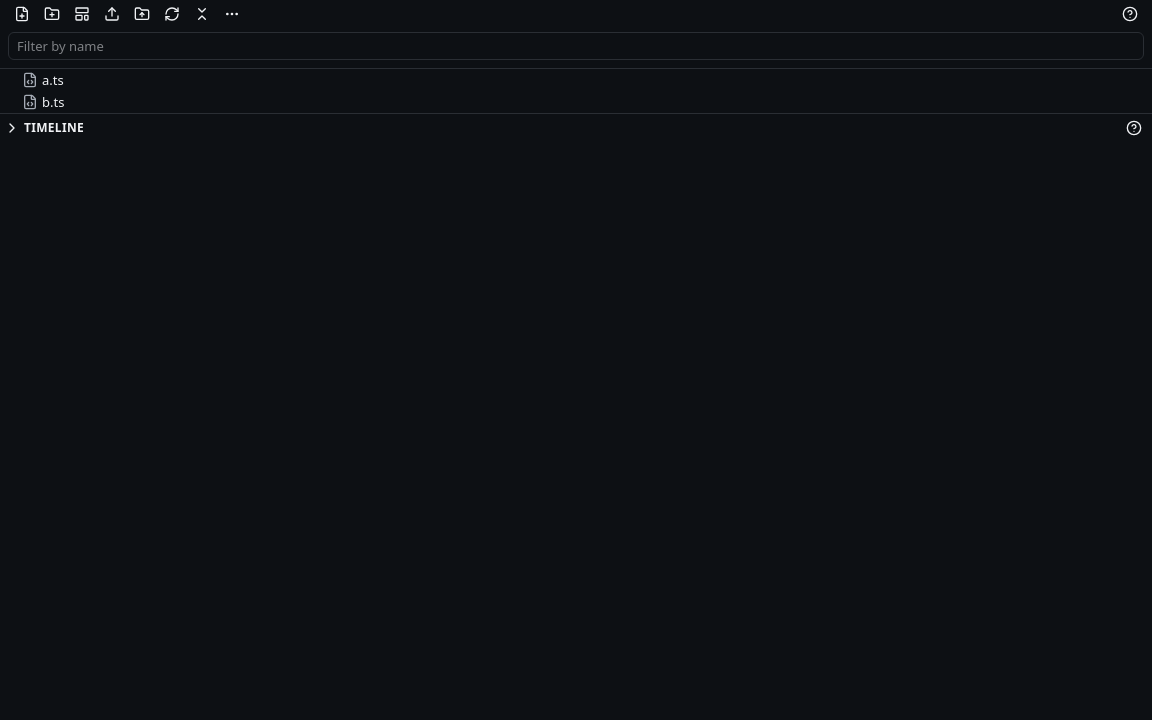
deleting what fits in the local history — plan 07, B-58, S-344 › shows what did not come back, and why, on the outcome screen
Click the list item "a.ts".
click(43, 80)  # box [22,71,64,89]
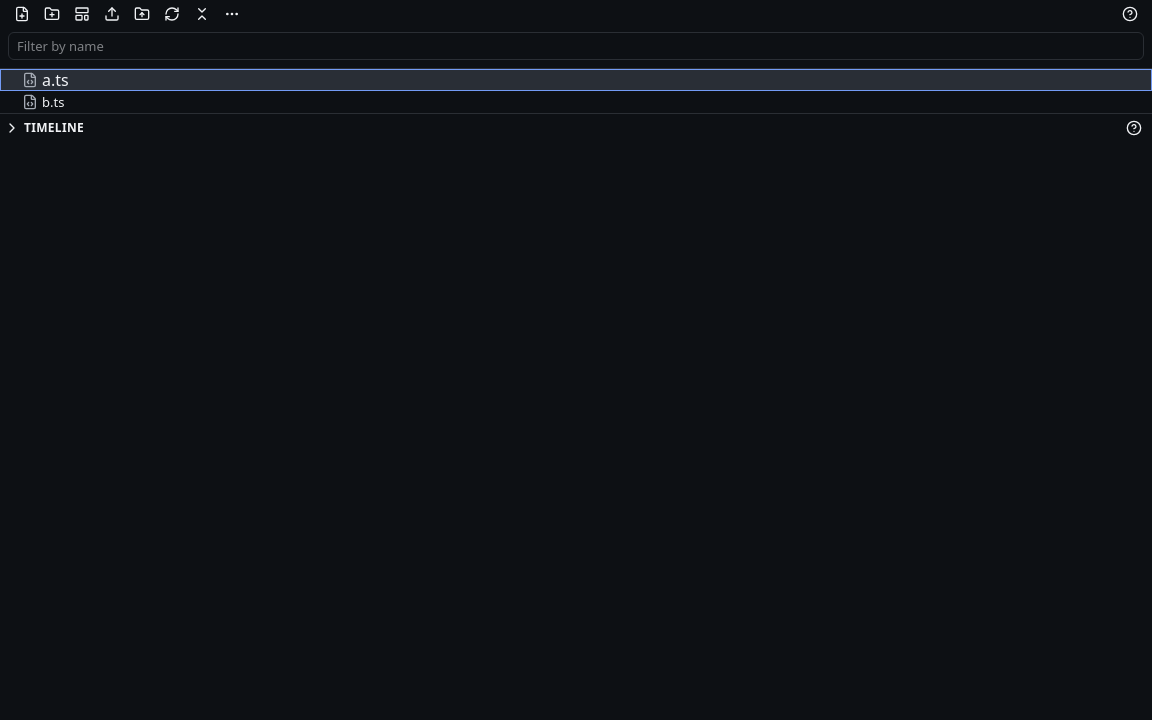
Type keys "{Shift>}{ArrowDown}{/Shift}"
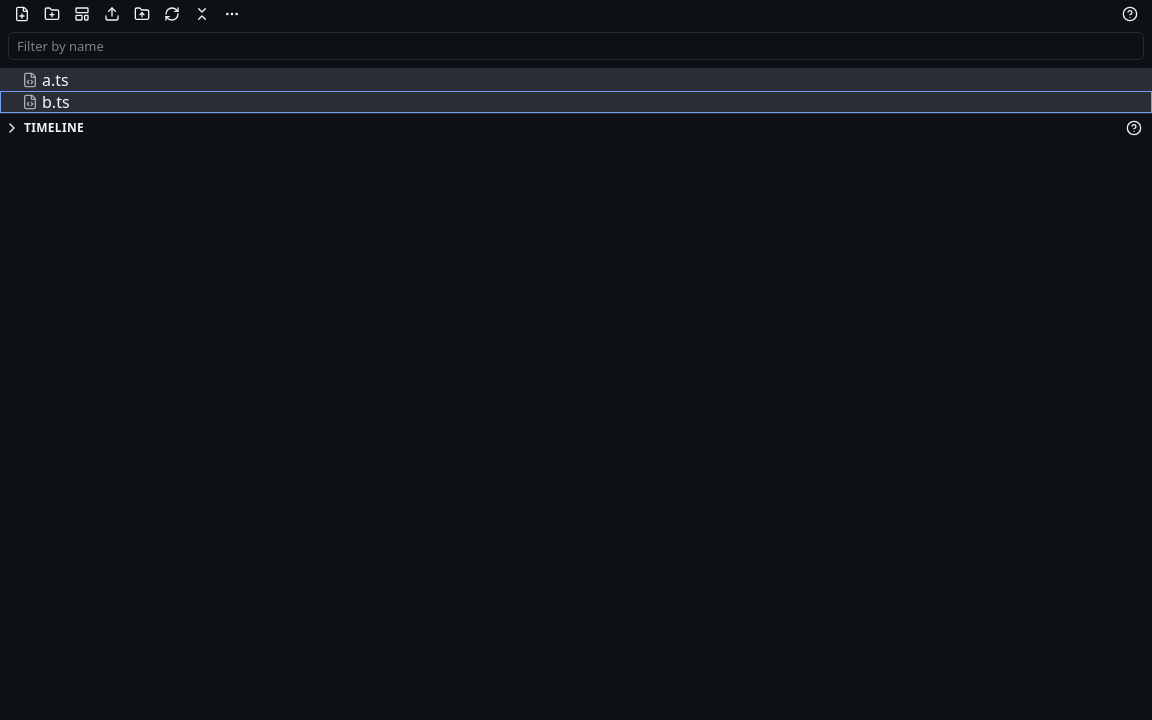
Press Delete
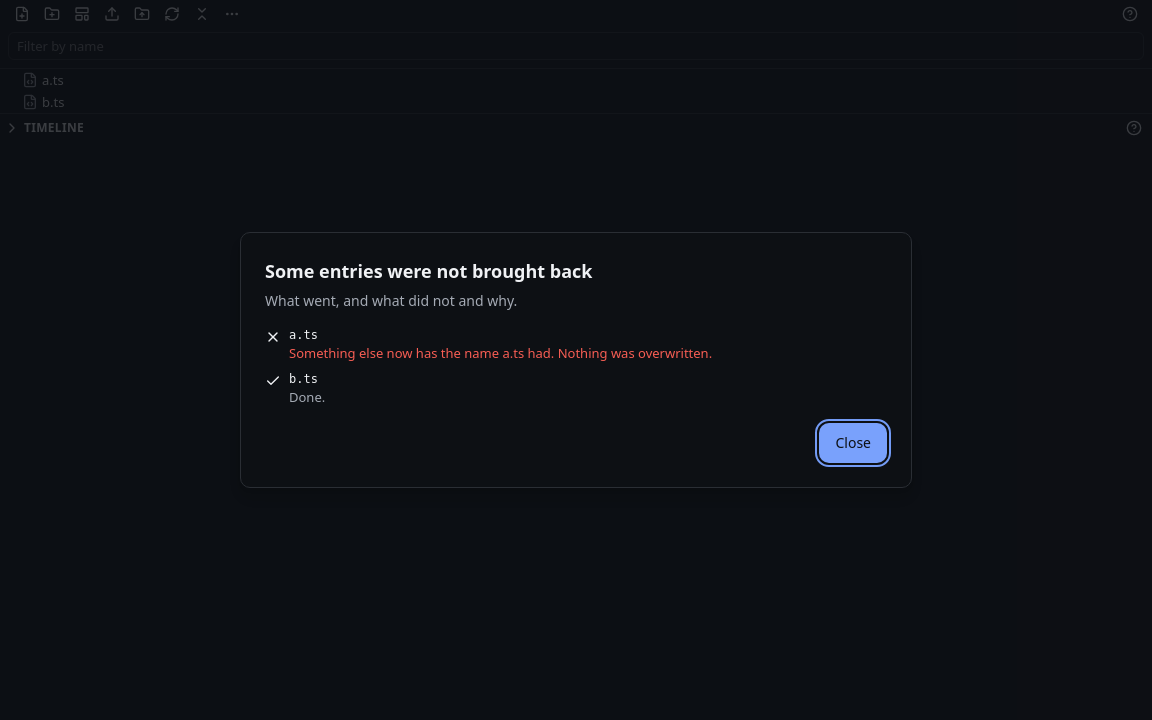
Now the dialog "Some entries were not brought back" shows "Done.", box [289,388,325,406]
